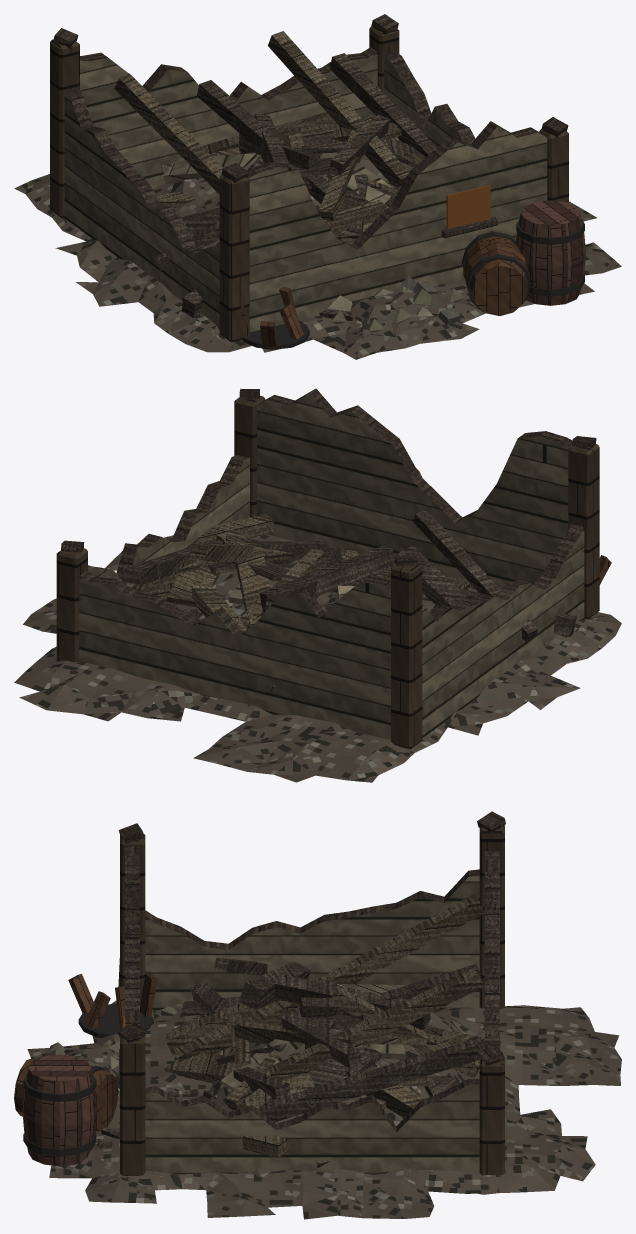
Rendered from CreShed01a.glb.
The picture shows the model from 3 angles, top to bottom: view 1: azimuth 30°, elevation 25°; view 2: azimuth 150°, elevation 25°; view 3: azimuth 270°, elevation 25°; orthographic projection. The views are drawn at different scales.
Parts seen in each view (by area): view 1: s_planks; view 2: s_planks; view 3: s_planks.
Boxes of the visible parts, x1=… form: s_planks: x1=14, y1=14, x2=621, y2=359; s_planks: x1=14, y1=388, x2=621, y2=782; s_planks: x1=14, y1=811, x2=621, y2=1219.
Bounding box in the file's own units: 4.57 × 1.74 × 4.85.
Materials: 13 (11 with a texture image).
